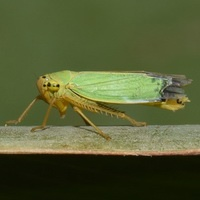insect: (6, 70, 191, 139)
